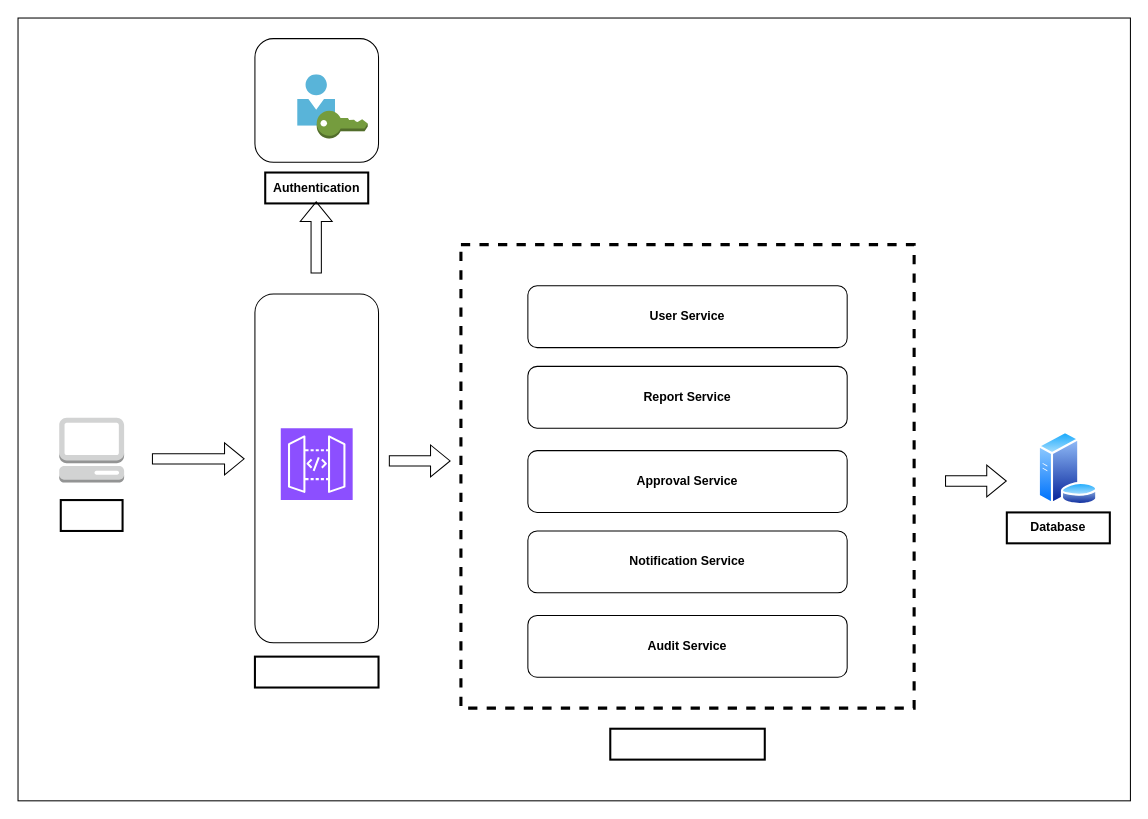
The diagram is 1148 pixels wide and 819 high, and some of its shapes have lost their labels. Here are the shapes that lost their labels. From the top down, the box of each, then its label:
(59, 499, 123, 531): Client
(253, 655, 379, 688): API Gateway
(609, 727, 765, 760): Services
